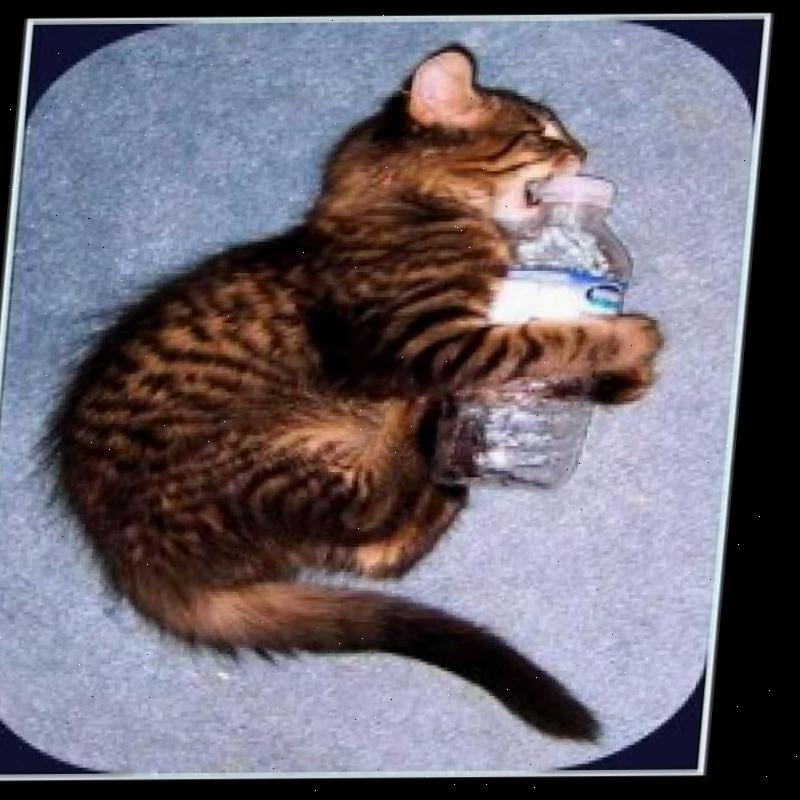botella: (463, 174, 646, 494)
